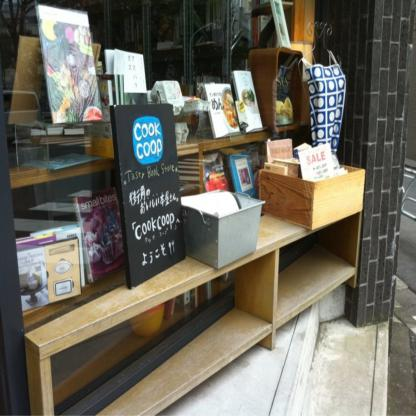book: (9, 0, 271, 322)
